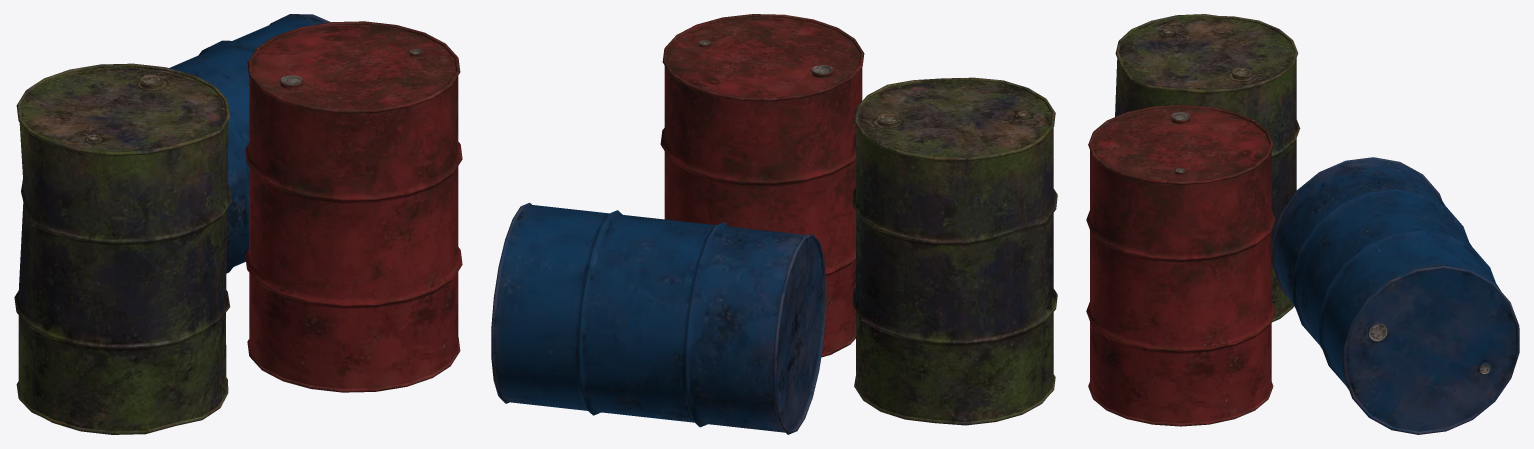
Rendered from oil_drums.glb.
The picture shows the model from 3 angles, left to right: view 1: azimuth 30°, elevation 25°; view 2: azimuth 150°, elevation 25°; view 3: azimuth 270°, elevation 25°; orthographic projection. The views are drawn at different scales.
Parts seen in each view (by area): view 1: Red_Drum_low, Damaged_Drum_low, Blue_Drum_low; view 2: Damaged_Drum_low, Blue_Drum_low, Red_Drum_low; view 3: Red_Drum_low, Blue_Drum_low, Damaged_Drum_low.
Boxes of the visible parts, left/top/right/bottom form: Red_Drum_low: left=245, top=21, right=462, bottom=392; Damaged_Drum_low: left=14, top=63, right=231, bottom=434; Blue_Drum_low: left=169, top=14, right=330, bottom=273; Damaged_Drum_low: left=852, top=77, right=1057, bottom=425; Blue_Drum_low: left=491, top=202, right=826, bottom=434; Red_Drum_low: left=660, top=14, right=864, bottom=357; Red_Drum_low: left=1086, top=104, right=1275, bottom=426; Blue_Drum_low: left=1272, top=157, right=1519, bottom=434; Damaged_Drum_low: left=1115, top=14, right=1300, bottom=322.
Bounding box in the file's own units: 1.81 × 1.08 × 1.73.
3 materials, 3 textured.
